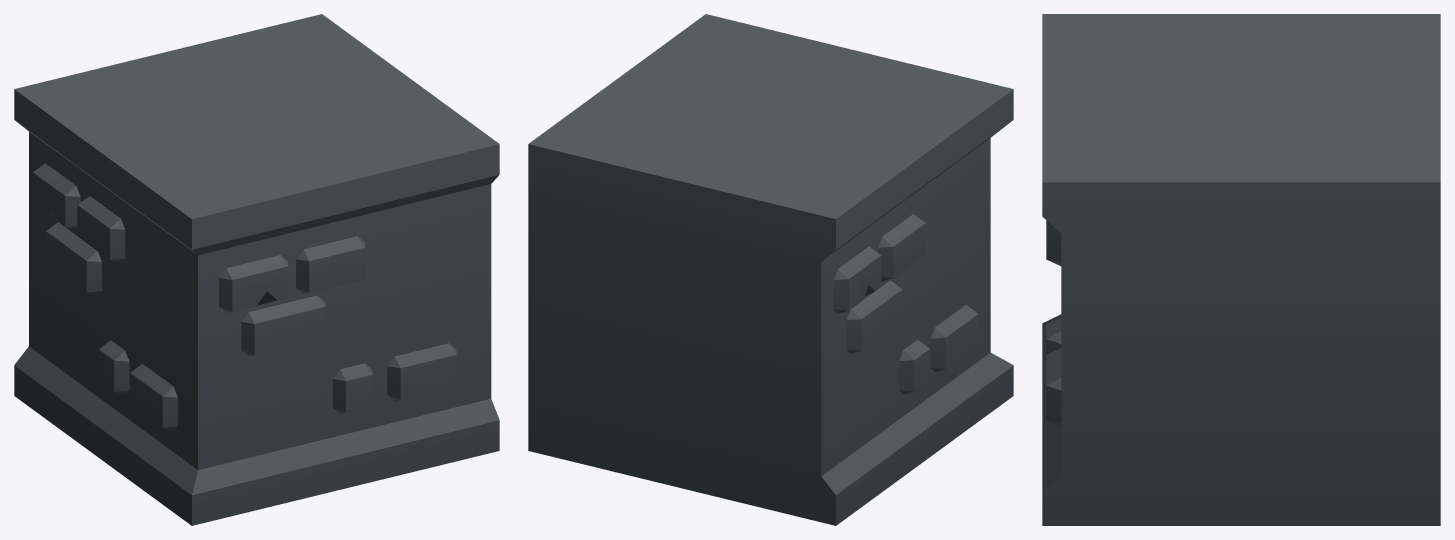
File: floor_foundation_corner.glb
3 views of the same model, side by side, from view 1: azimuth 30°, elevation 25°; view 2: azimuth 150°, elevation 25°; view 3: azimuth 270°, elevation 25° (orthographic). The views are drawn at different scales.
Visible parts, largest first — view 1: floor_foundation_corner; view 2: floor_foundation_corner; view 3: floor_foundation_corner.
Boxes of the visible parts, x1,y1,x2,y2 form: floor_foundation_corner: (14,14,499,525); floor_foundation_corner: (528,14,1013,525); floor_foundation_corner: (1042,14,1440,525).
Size of the model in its own units: 2.1 by 2 by 2.1.
1 material, 1 textured.
